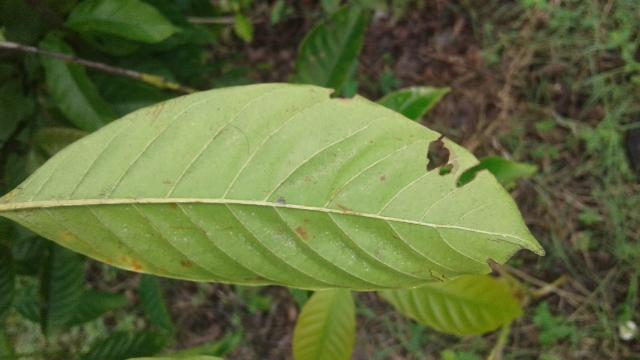rust_level_1: (0, 78, 550, 297)
